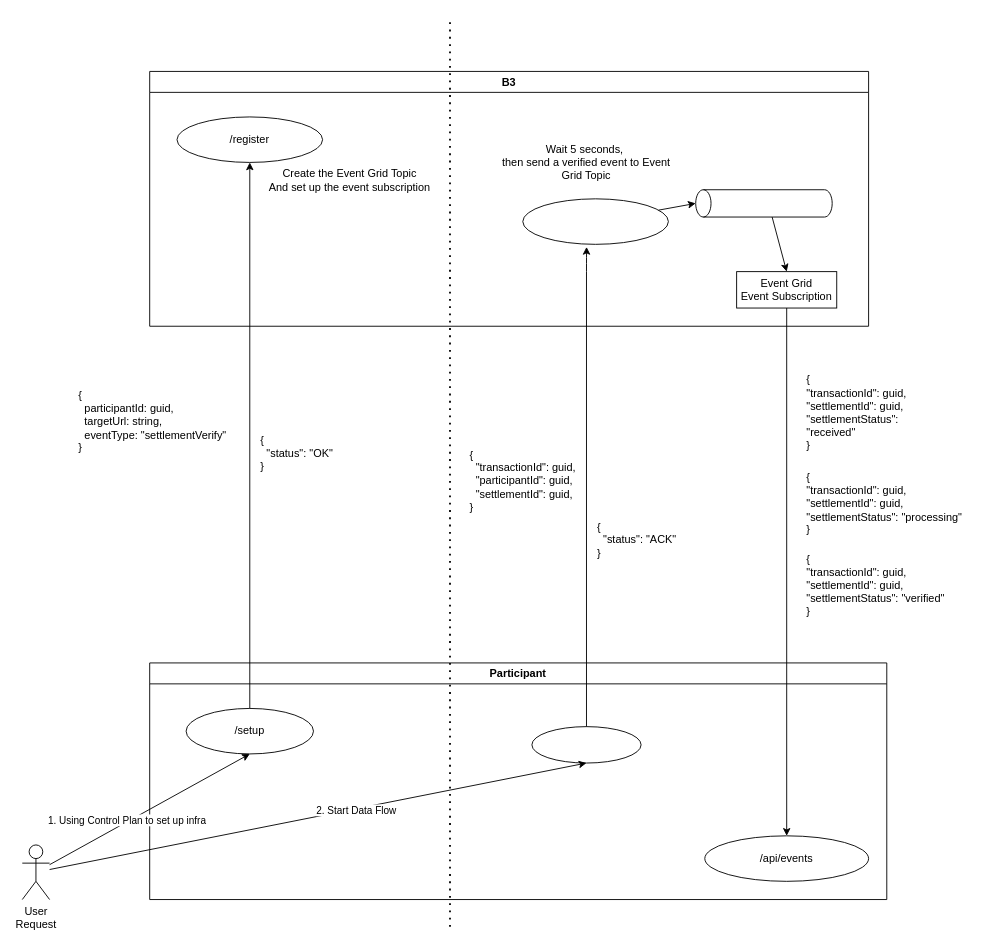
Image size: 1003x947. Some labels were removed from this diagram. Here are the shapes that lost their labels. From the top down, the centre of each, then its label:
At (595,221): "/settlement/verify".
At (763,203): "Event Grid Topic".
At (586,744): "/startSettlement".
